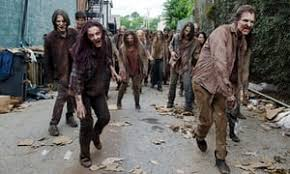zombie: (236, 10, 255, 35), (86, 25, 105, 48), (53, 14, 70, 34), (75, 12, 85, 28), (125, 33, 136, 46)
